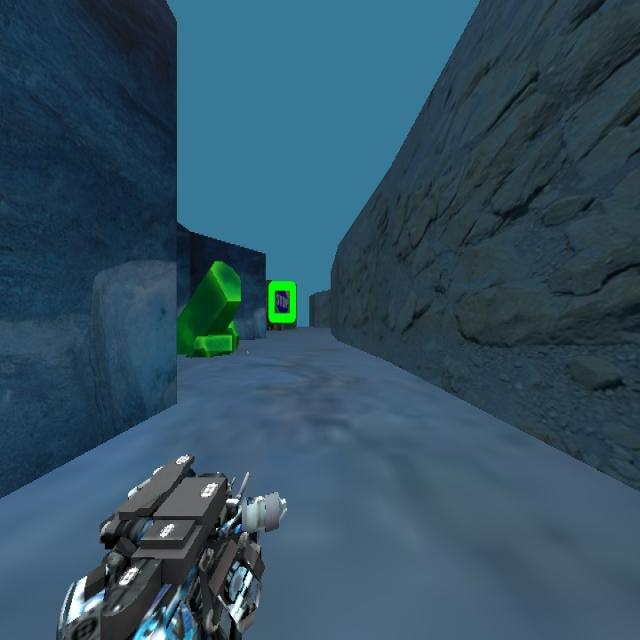Diamon: (175, 259, 241, 357)
Stop_Sign: (267, 280, 296, 325)
